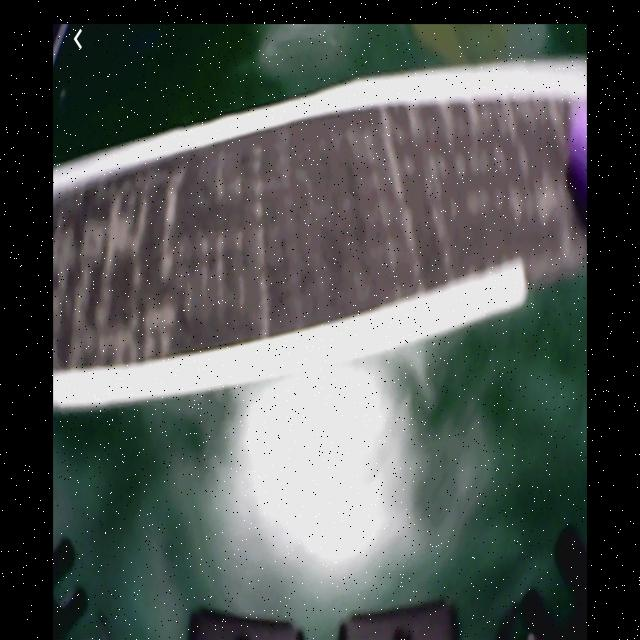ball: (569, 105, 589, 205)
